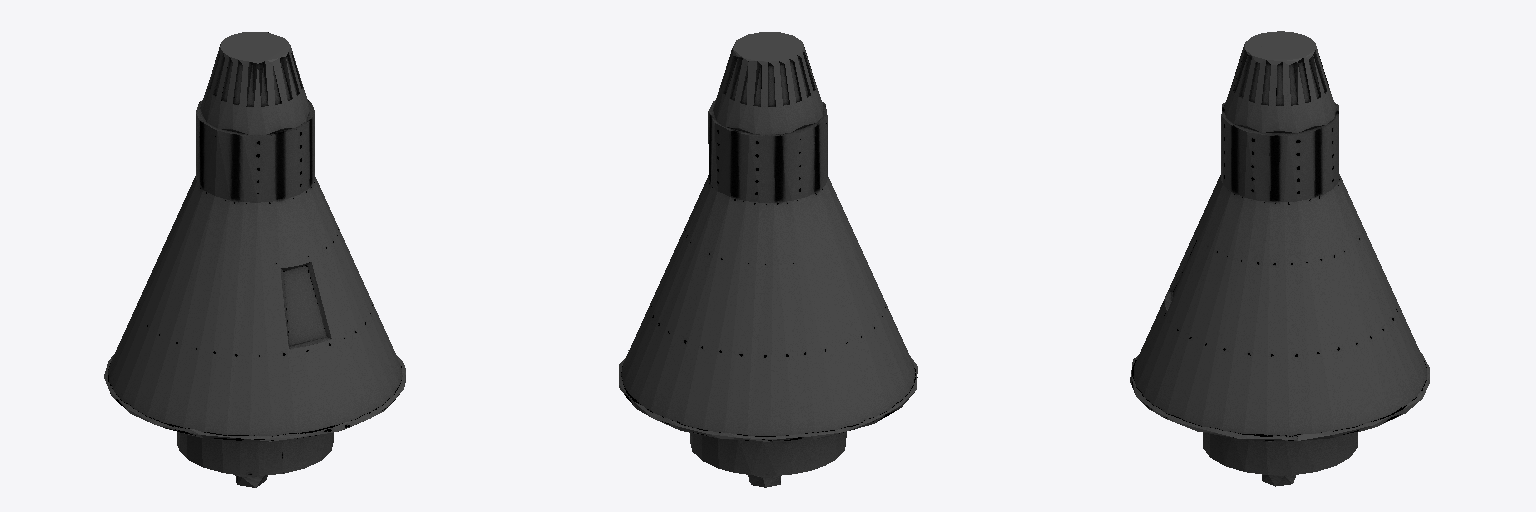
The picture shows the model from 3 angles: view 1: azimuth 30°, elevation 25°; view 2: azimuth 150°, elevation 25°; view 3: azimuth 270°, elevation 25°; orthographic projection.
Size of the model in its own units: 6.02 by 9.2 by 5.97.
Materials: 1 (1 with a texture image).